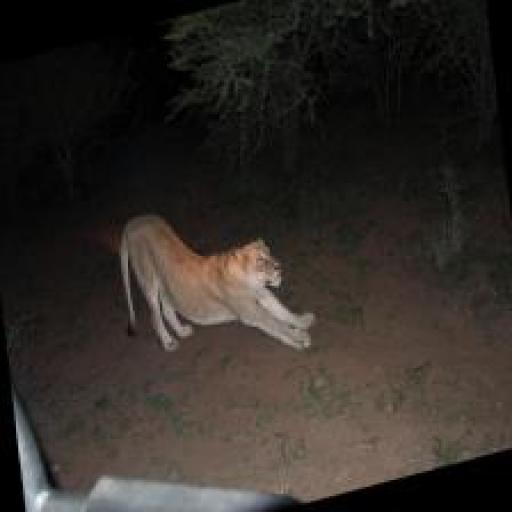lion: (114, 174, 320, 398)
